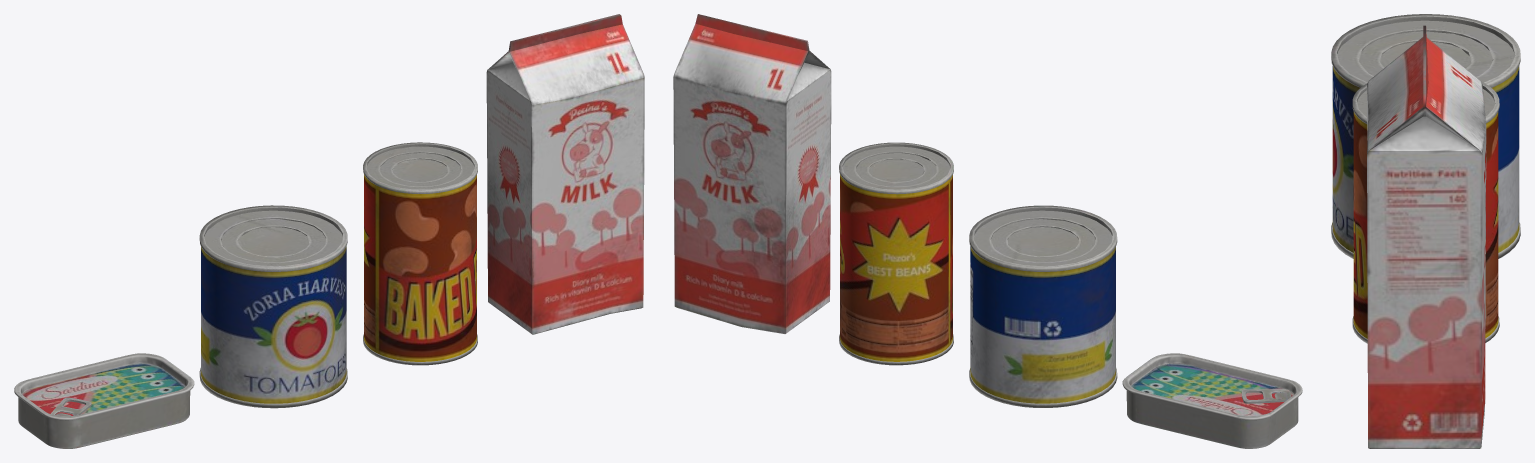
Rendered from long_life_food.glb.
3 renders of one model, left to right at view 1: azimuth 30°, elevation 25°; view 2: azimuth 150°, elevation 25°; view 3: azimuth 270°, elevation 25°, orthographic. The views are drawn at different scales.
Visible parts, largest first — view 1: long_life_food_milk, long_life_food_tomatoes, long_life_food_beans, long_life_food_sardines; view 2: long_life_food_milk, long_life_food_tomatoes, long_life_food_beans, long_life_food_sardines; view 3: long_life_food_milk, long_life_food_tomatoes, long_life_food_beans.
Part boxes in pixels (box(x1,y1,x2,y2)): long_life_food_milk: box(486, 14, 644, 334); long_life_food_tomatoes: box(199, 205, 347, 408); long_life_food_beans: box(363, 142, 477, 365); long_life_food_sardines: box(14, 353, 194, 448); long_life_food_milk: box(673, 14, 831, 333); long_life_food_tomatoes: box(969, 205, 1117, 407); long_life_food_beans: box(839, 142, 953, 365); long_life_food_sardines: box(1122, 353, 1302, 448); long_life_food_milk: box(1367, 25, 1486, 448); long_life_food_tomatoes: box(1331, 14, 1520, 258); long_life_food_beans: box(1352, 81, 1499, 343).
Bounding box in the file's own units: 0.5237 × 0.2373 × 0.1136.
Materials: 1 (1 with a texture image).
